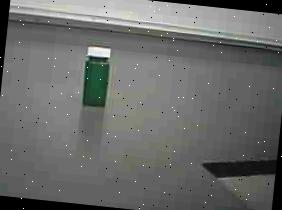Bottle C: (71, 39, 118, 114)
